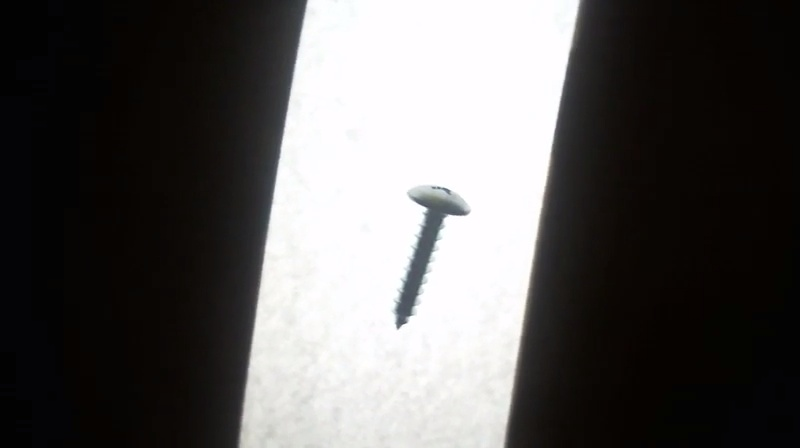S003: (392, 178, 473, 331)
